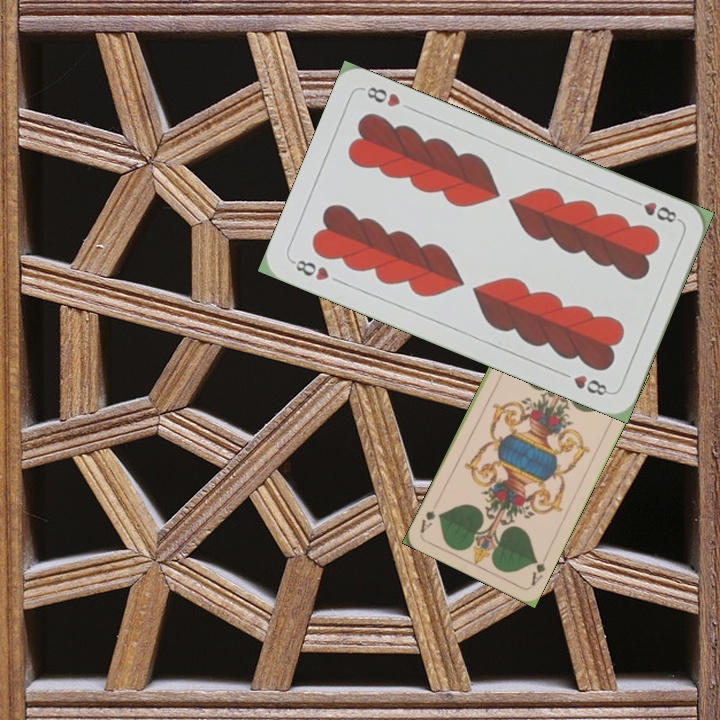GA: (527, 550, 550, 588)
H8: (626, 195, 683, 226), (287, 255, 332, 284)
